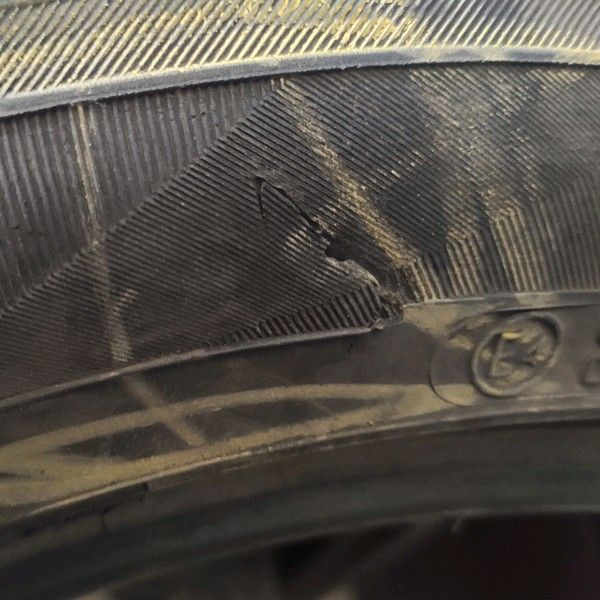cut: (259, 177, 414, 330)
